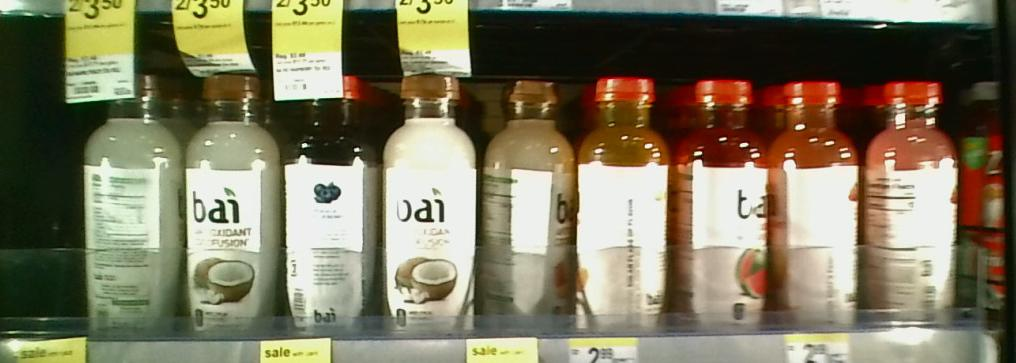bottle: (177, 61, 286, 345), (79, 59, 184, 345), (768, 66, 868, 335), (373, 67, 474, 331), (473, 69, 576, 324), (282, 55, 372, 342), (577, 67, 673, 336), (867, 72, 964, 331), (679, 67, 773, 333)
